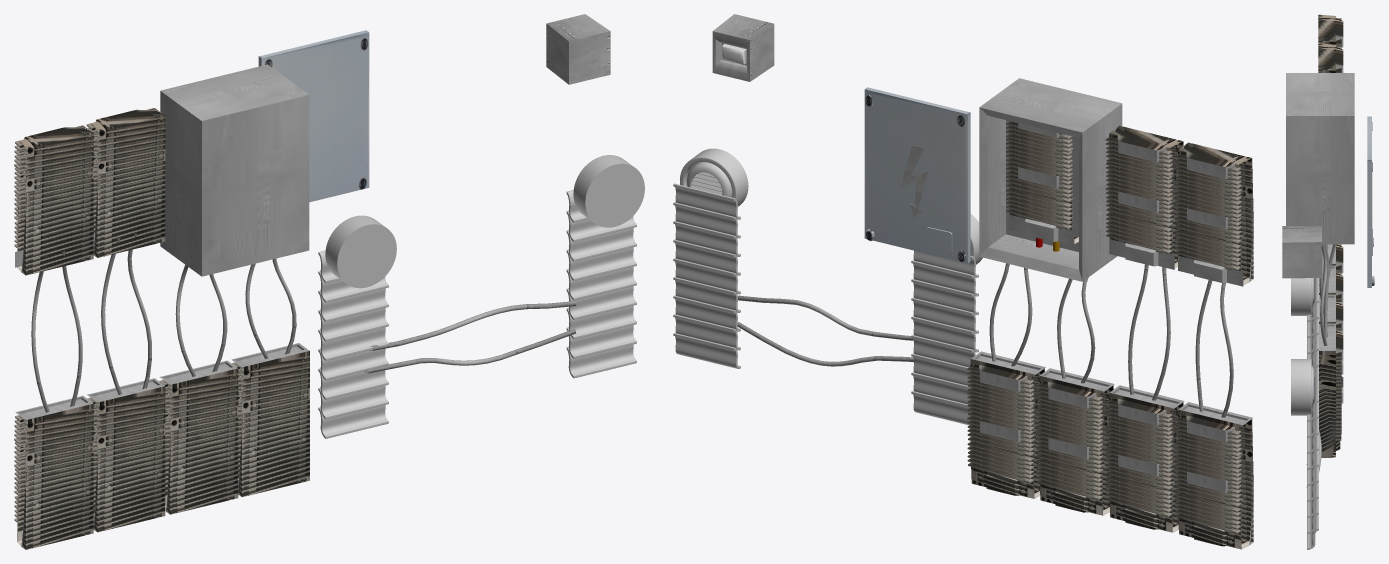
The model's file is ElectricWALLStuff 1.fbx.
3 views of the same model, side by side, from view 1: azimuth 30°, elevation 25°; view 2: azimuth 150°, elevation 25°; view 3: azimuth 270°, elevation 25° (orthographic). The views are drawn at different scales.
Parts seen in each view (by area): view 1: Cube.361, props_1.003, props_1.002, Cube.366, Cube.364, Cube.368, Cube.365, Cube.367, Cube.259, Cube.431, BezierCurve.011, BezierCurve (+3 smaller); view 2: Cube.361, props_1.003, Cube.366, props_1.002, Cube.364, Cube.368, Cube.365, Cube.367, Cube.259, Cube.360, Cube.431, BezierCurve.011 (+5 smaller); view 3: Cube.361, props_1.003, Cube.367, Cube.431, props_1.002, Cube.364, Cube.259, BezierCurve.005, Cube.368, Cube.365, Cube.366, BezierCurve.006.
Boxes of the visible parts, x1=… form: Cube.361: x1=160, y1=30, x2=369, y2=276; props_1.003: x1=566, y1=155, x2=644, y2=378; props_1.002: x1=318, y1=215, x2=396, y2=438; Cube.366: x1=14, y1=396, x2=93, y2=549; Cube.364: x1=14, y1=125, x2=93, y2=275; Cube.368: x1=159, y1=360, x2=238, y2=514; Cube.365: x1=87, y1=378, x2=165, y2=532; Cube.367: x1=231, y1=343, x2=309, y2=496; Cube.259: x1=86, y1=108, x2=165, y2=257; Cube.431: x1=546, y1=14, x2=610, y2=84; BezierCurve.011: x1=364, y1=301, x2=576, y2=373; BezierCurve: x1=101, y1=233, x2=151, y2=394; Cube.361: x1=864, y1=78, x2=1122, y2=281; props_1.003: x1=673, y1=148, x2=748, y2=368; Cube.366: x1=1174, y1=402, x2=1253, y2=549; props_1.002: x1=911, y1=214, x2=982, y2=425; Cube.364: x1=1174, y1=142, x2=1253, y2=286; Cube.368: x1=1036, y1=368, x2=1114, y2=515; Cube.365: x1=1106, y1=385, x2=1184, y2=532; Cube.367: x1=967, y1=351, x2=1045, y2=498; Cube.259: x1=1105, y1=126, x2=1183, y2=269; Cube.360: x1=1006, y1=120, x2=1078, y2=245; Cube.431: x1=712, y1=14, x2=774, y2=81; BezierCurve.011: x1=737, y1=295, x2=913, y2=366; Cube.361: x1=1286, y1=73, x2=1374, y2=287; props_1.003: x1=1291, y1=359, x2=1318, y2=549; Cube.367: x1=1319, y1=323, x2=1343, y2=457; Cube.431: x1=1282, y1=226, x2=1321, y2=278; props_1.002: x1=1291, y1=278, x2=1318, y2=376; Cube.364: x1=1318, y1=14, x2=1343, y2=47; Cube.259: x1=1318, y1=43, x2=1343, y2=72; BezierCurve.005: x1=1320, y1=244, x2=1329, y2=345; Cube.368: x1=1319, y1=294, x2=1343, y2=374; Cube.365: x1=1319, y1=265, x2=1343, y2=333; Cube.366: x1=1327, y1=244, x2=1343, y2=304; BezierCurve.006: x1=1319, y1=244, x2=1336, y2=314.
Size of the model in its own units: 681 by 436 by 109.
